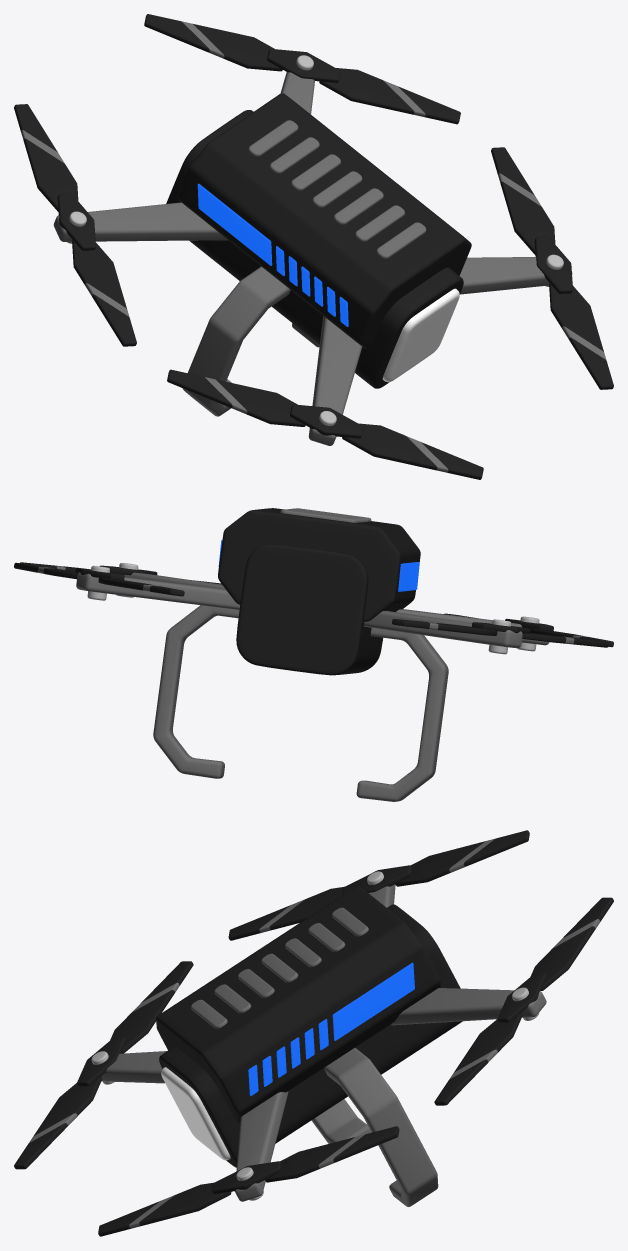
Rendered from drone.glb.
The picture shows the model from 3 angles, top to bottom: view 1: azimuth 30°, elevation 25°; view 2: azimuth 150°, elevation 25°; view 3: azimuth 270°, elevation 25°; orthographic projection. The views are drawn at different scales.
Visible parts, largest first — view 1: Cube.049, Plane.038, Plane.040, Cube.052, Cube.050, Plane.041, Plane.036, Plane.039, Plane.037, Cube.051, Cylinder.064; view 2: Cube.050, Cube.049, Plane.041, Cube.052, Plane.038, Plane.040, Plane.039, Cylinder.064, Plane.036, Plane.037; view 3: Cube.049, Plane.040, Cube.050, Plane.038, Cube.052, Plane.041, Plane.037, Plane.036, Plane.039, Cube.051, Cylinder.064.
Boxes of the visible parts, <box> form: Cube.049: <box>177,93,471,348</box>; Plane.038: <box>72,68,555,426</box>; Plane.040: <box>14,14,613,479</box>; Cube.052: <box>53,72,572,445</box>; Cube.050: <box>166,110,463,388</box>; Plane.041: <box>182,266,319,416</box>; Plane.036: <box>248,120,426,258</box>; Plane.039: <box>57,49,572,438</box>; Plane.037: <box>197,183,348,326</box>; Cube.051: <box>382,288,459,382</box>; Cylinder.064: <box>67,55,563,425</box>; Cube.050: <box>236,544,383,675</box>; Cube.049: <box>218,508,420,621</box>; Plane.041: <box>153,605,448,801</box>; Cube.052: <box>76,572,549,648</box>; Plane.038: <box>14,562,613,647</box>; Plane.040: <box>98,577,497,635</box>; Plane.039: <box>75,565,553,633</box>; Cylinder.064: <box>87,563,539,654</box>; Plane.036: <box>280,508,371,522</box>; Plane.037: <box>218,540,419,591</box>; Cube.049: <box>156,885,440,1122</box>; Plane.040: <box>14,830,613,1236</box>; Cube.050: <box>159,904,462,1167</box>; Plane.038: <box>110,886,522,1182</box>; Cube.052: <box>101,884,546,1201</box>; Plane.041: <box>311,1048,438,1206</box>; Plane.037: <box>248,962,414,1095</box>; Plane.036: <box>191,907,368,1028</box>; Plane.039: <box>77,865,546,1193</box>; Cube.051: <box>161,1067,230,1160</box>; Cylinder.064: <box>91,871,539,1200</box>.
Size of the model in its own units: 2.65 by 1.54 by 2.97.
